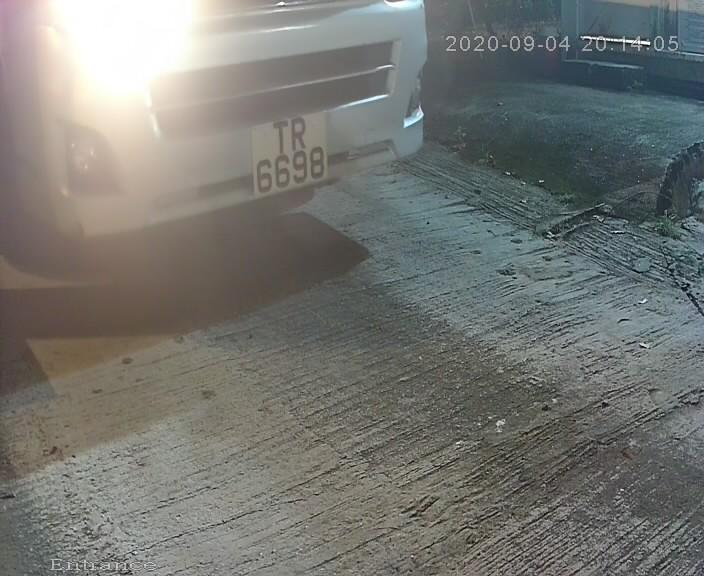License Plate: (246, 96, 337, 214)
